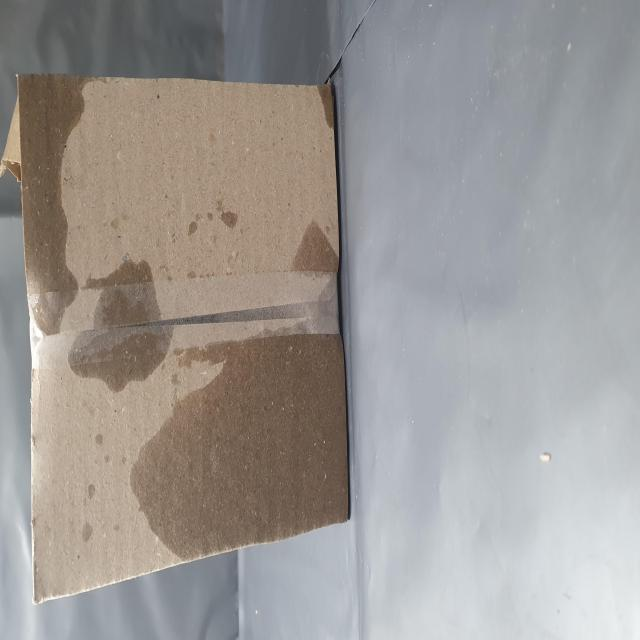wet: (19, 43, 324, 626)
